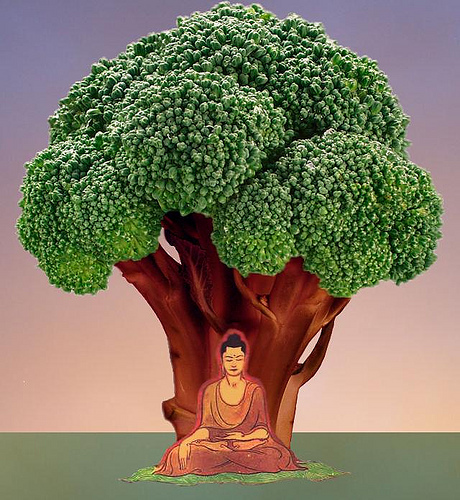broccoli: (13, 0, 441, 295)
